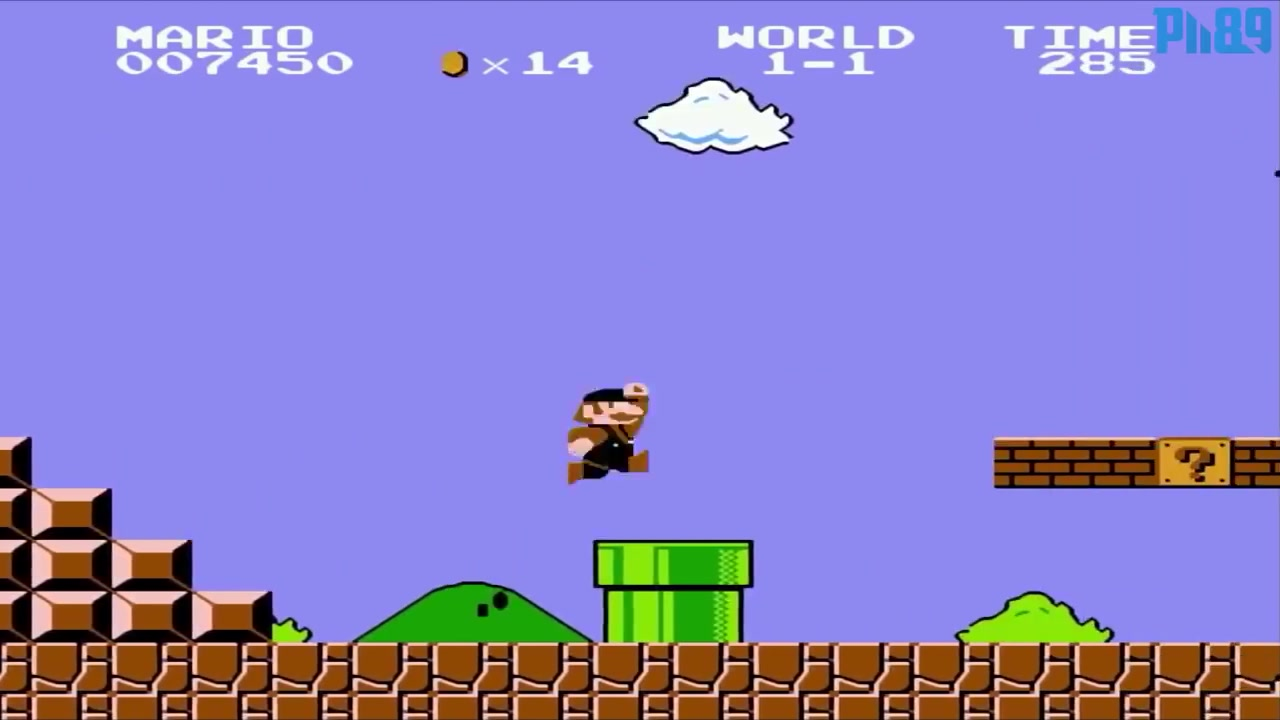mario: (552, 369, 674, 486)
